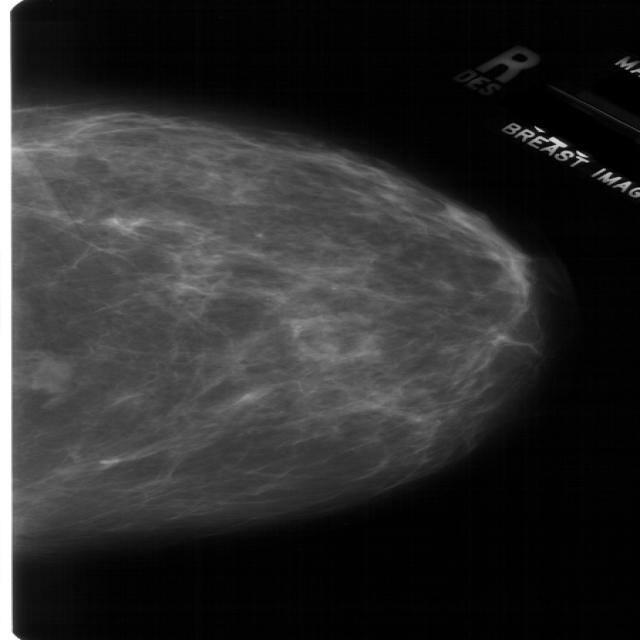tumour: (17, 348, 68, 392)
